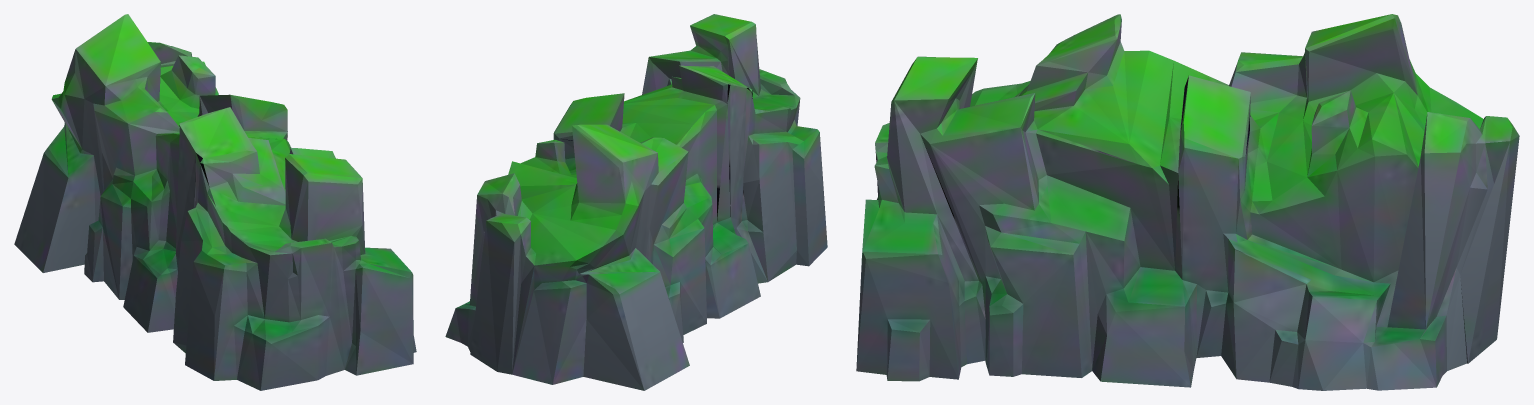
Rendered from cliff_wide_moss.glb.
The picture shows the model from 3 angles, left to right: view 1: azimuth 30°, elevation 25°; view 2: azimuth 150°, elevation 25°; view 3: azimuth 270°, elevation 25°; orthographic projection. The views are drawn at different scales.
Visible parts, largest first — view 1: cliff_wide_moss; view 2: cliff_wide_moss; view 3: cliff_wide_moss.
Part boxes in pixels (box(x1,y1,x2,y2)): cliff_wide_moss: box(14, 14, 416, 390); cliff_wide_moss: box(445, 14, 827, 390); cliff_wide_moss: box(856, 14, 1519, 390).
Bounding box in the file's own units: 5.29 × 5.29 × 10.58.
Materials: 1 (1 with a texture image).
